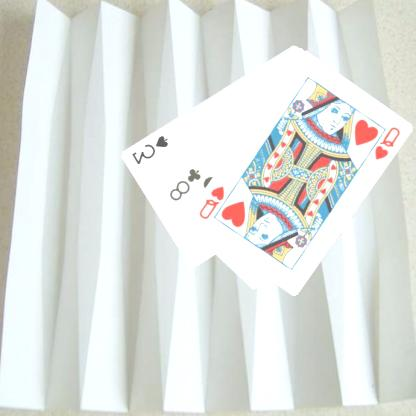3S: (130, 132, 171, 166)
8C: (168, 165, 204, 203)
QH: (364, 124, 404, 162), (197, 183, 227, 221)
